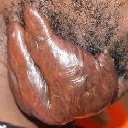Keloids: (9, 8, 123, 116)
